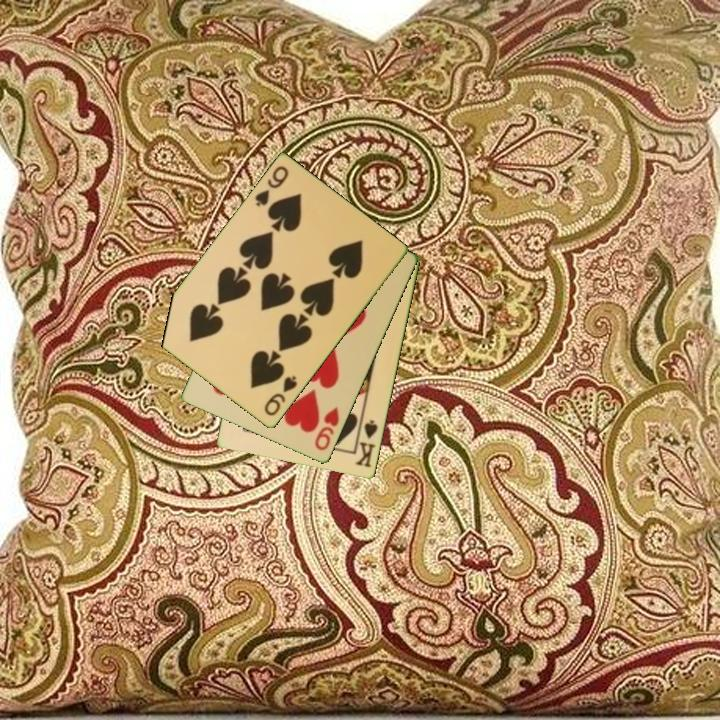9h: (311, 403, 342, 454)
9s: (251, 163, 292, 210), (261, 372, 301, 419)
Ks: (352, 414, 381, 471)
